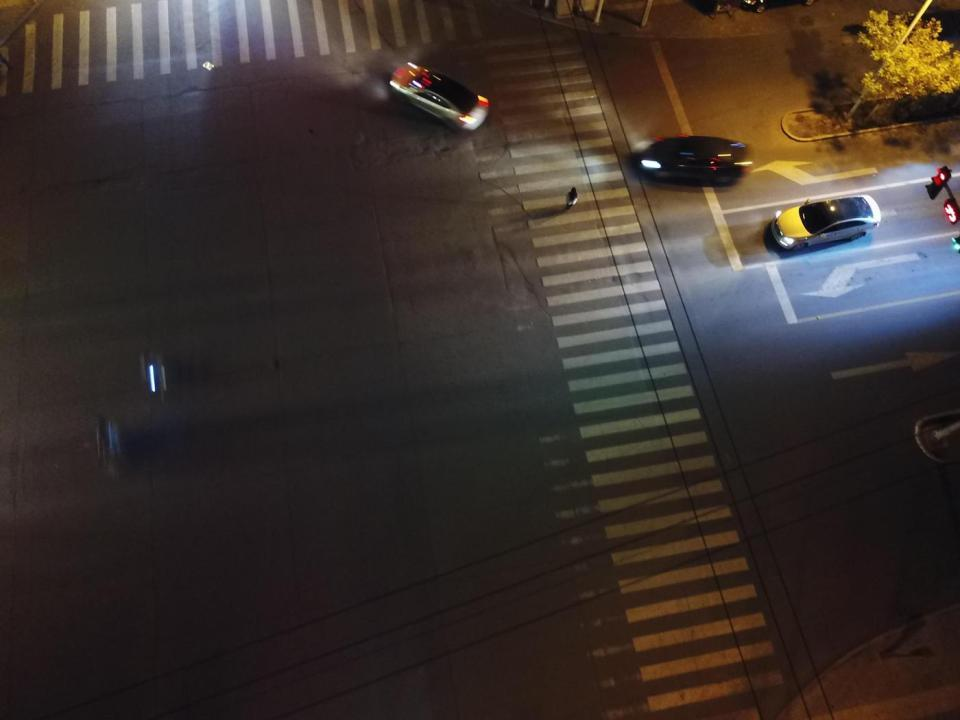car: (388, 60, 490, 130), (771, 193, 880, 253), (632, 136, 750, 190)
